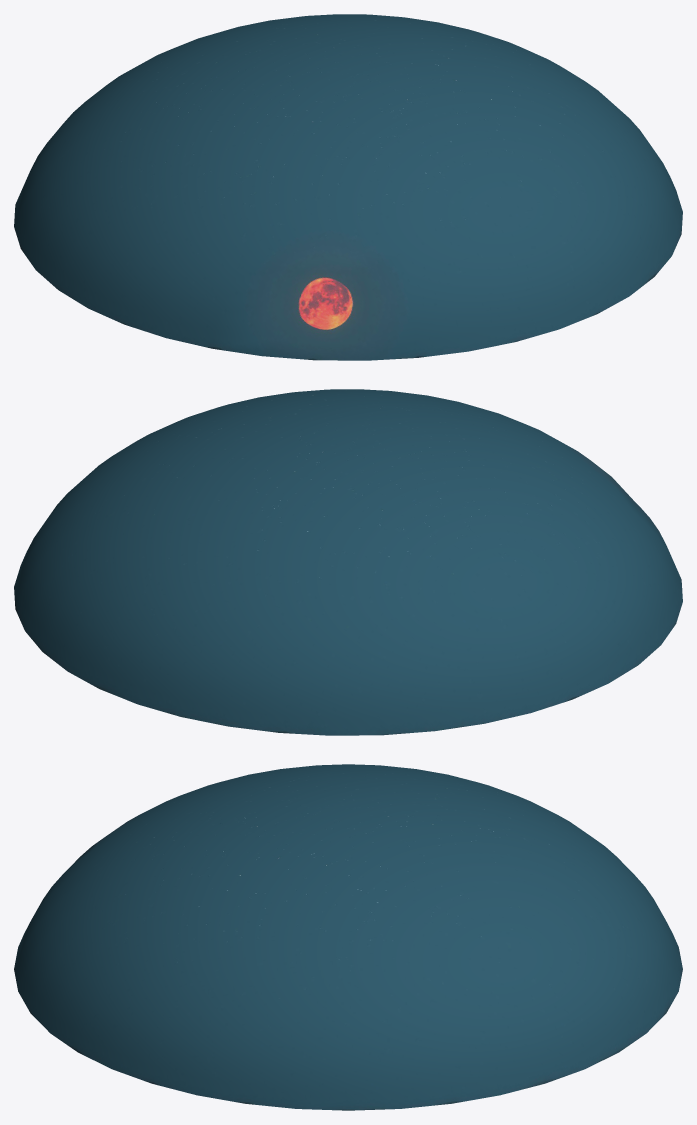
Rendered from SM_Skydome.fbx.
3 renders of one model, top to bottom at view 1: azimuth 30°, elevation 25°; view 2: azimuth 150°, elevation 25°; view 3: azimuth 270°, elevation 25°, orthographic.
Visible parts, largest first — view 1: pSphere1; view 2: pSphere1; view 3: pSphere1.
Boxes of the visible parts, left/top/right/bottom form: pSphere1: left=14, top=14, right=682, bottom=360; pSphere1: left=14, top=389, right=682, bottom=735; pSphere1: left=14, top=764, right=682, bottom=1110.
Bounding box in the file's own units: 195 × 50.55 × 195.
1 material, 1 textured.
